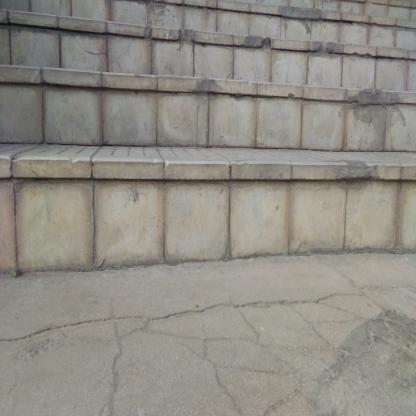stairs: (3, 8, 416, 275)
